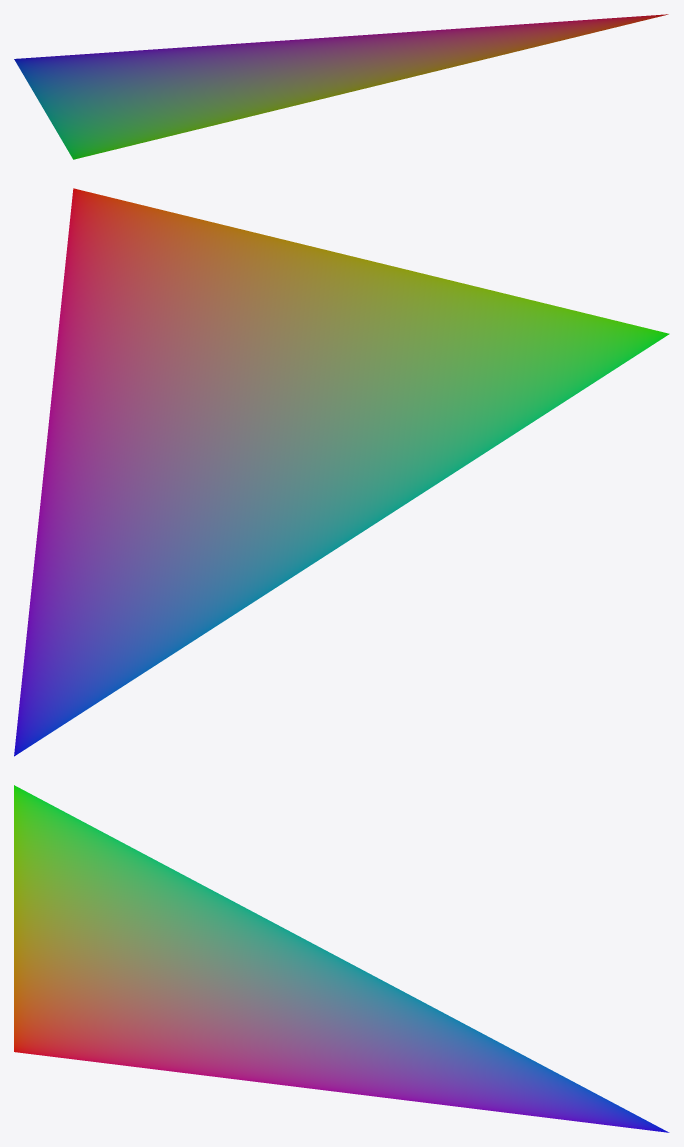
Rendered from face_cleaning_conquest_4.obj.
3 views of the same model, one above another, from view 1: azimuth 30°, elevation 25°; view 2: azimuth 150°, elevation 25°; view 3: azimuth 270°, elevation 25° (orthographic). The views are drawn at different scales.
Size of the model in its own units: 0.5101 by 0.191 by 0.5296.
